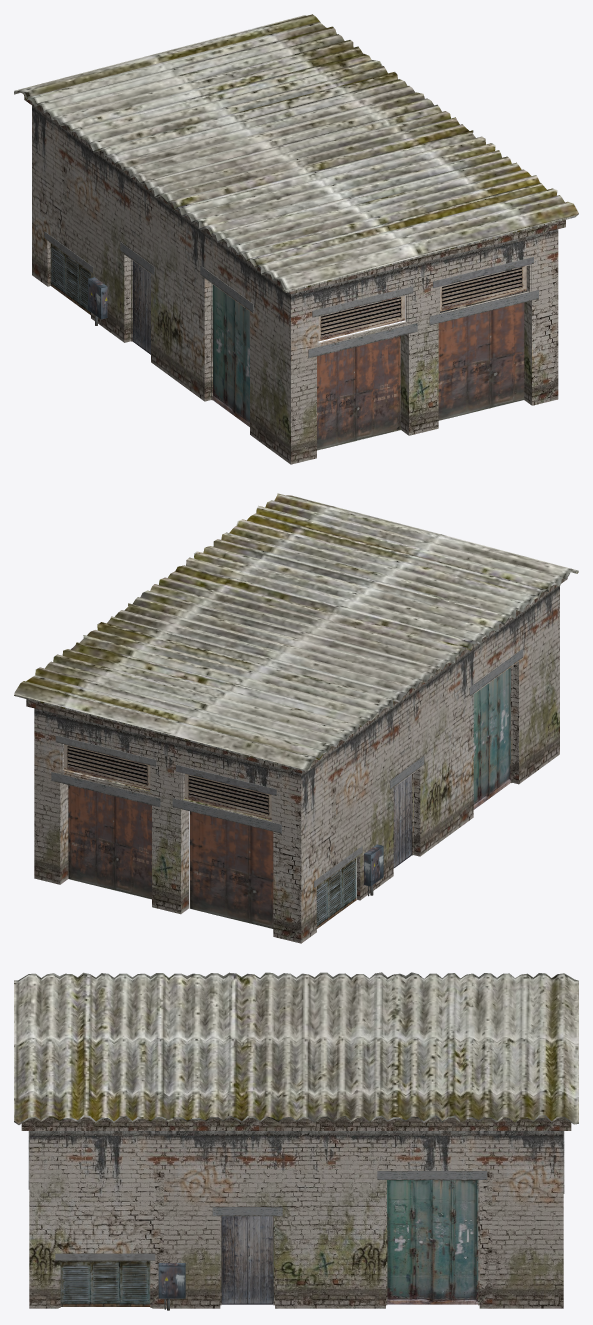
Rendered from garage_brick_double.glb.
3 views of the same model, one above another, from view 1: azimuth 30°, elevation 25°; view 2: azimuth 150°, elevation 25°; view 3: azimuth 270°, elevation 25° (orthographic). The views are drawn at different scales.
Visible parts, largest first — view 1: garage_brick_double; view 2: garage_brick_double; view 3: garage_brick_double.
Part boxes in pixels (left/top/right/bottom): garage_brick_double: left=14, top=14, right=578, bottom=464; garage_brick_double: left=14, top=493, right=578, bottom=943; garage_brick_double: left=14, top=972, right=578, bottom=1310.
Size of the model in its own units: 7.15 by 4.39 by 11.29.
11 materials, 11 textured.
